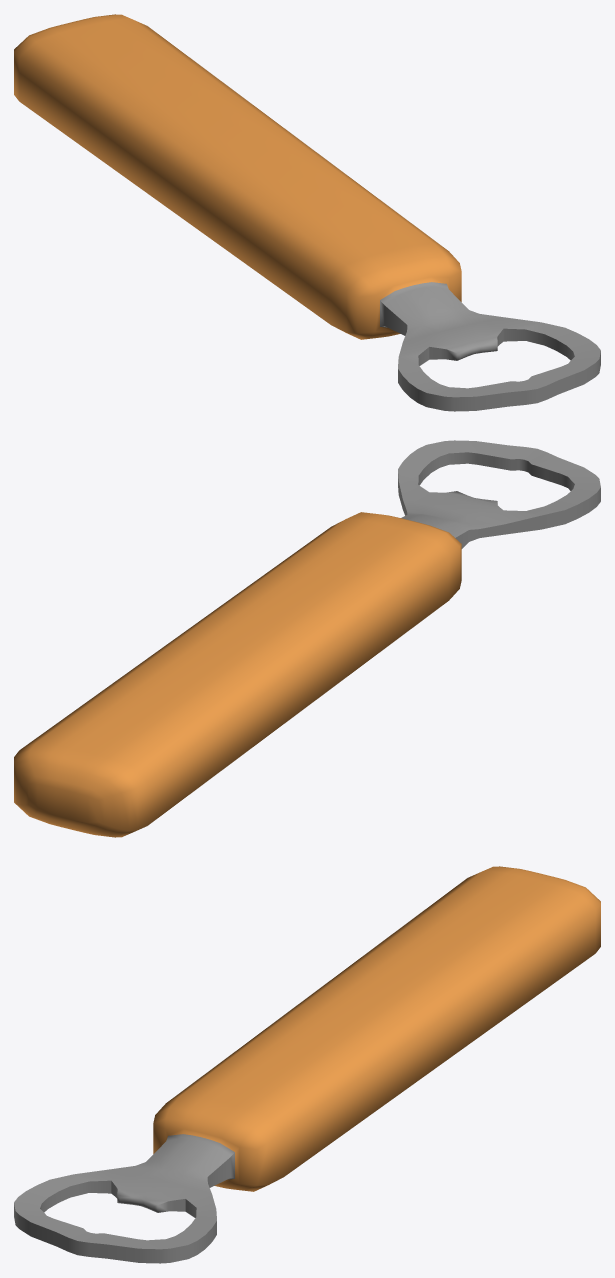
Rendered from Opener_long.fbx.
3 renders of one model, top to bottom at view 1: azimuth 30°, elevation 25°; view 2: azimuth 150°, elevation 25°; view 3: azimuth 330°, elevation 25°, orthographic.
Parts seen in each view (by area): view 1: Opener.001; view 2: Opener.001; view 3: Opener.001.
Part boxes in pixels (left/top/right/bottom): Opener.001: left=14, top=14, right=600, bottom=411; Opener.001: left=14, top=440, right=600, bottom=837; Opener.001: left=14, top=866, right=600, bottom=1263.
Size of the model in its own units: 4.44 by 1.76 by 20.35.
